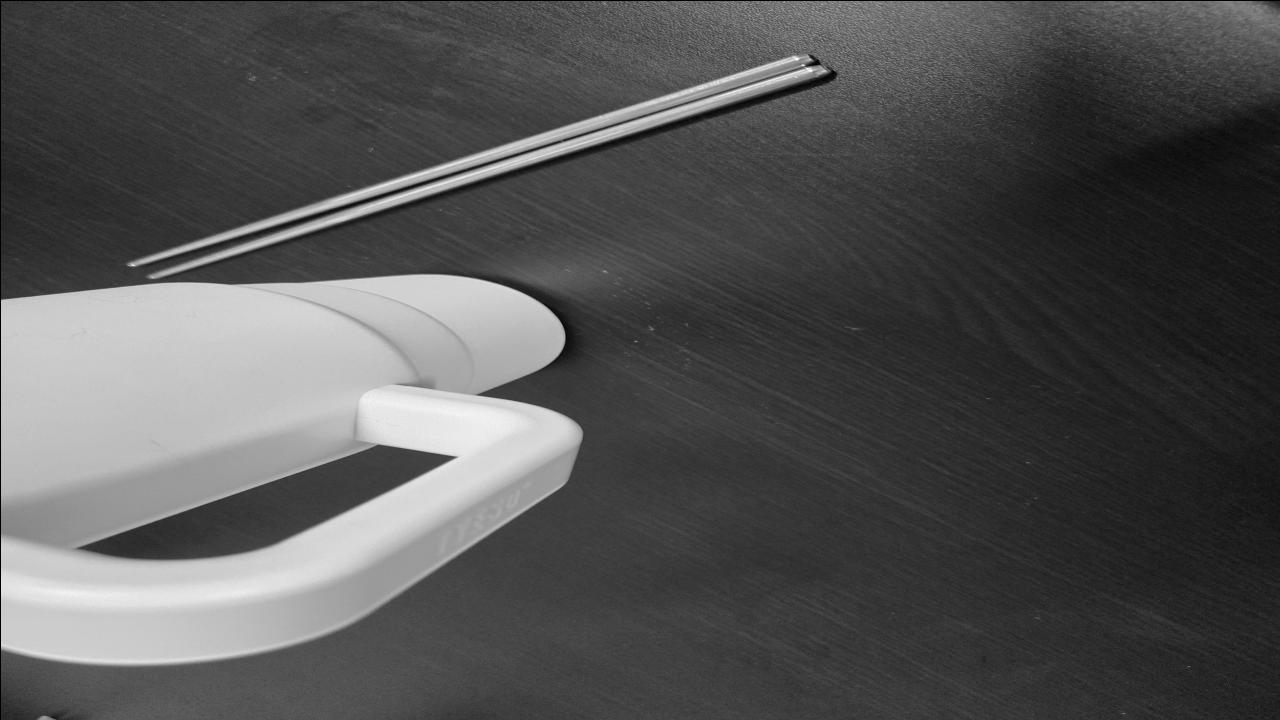chopstick: (119, 48, 844, 278)
